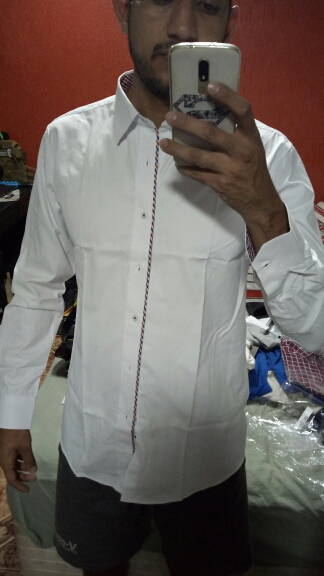shirts: (7, 73, 324, 506)
